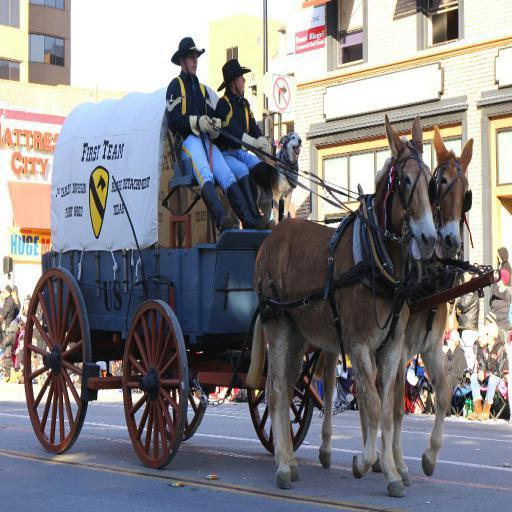horse: (242, 112, 437, 498), (308, 129, 473, 484)
